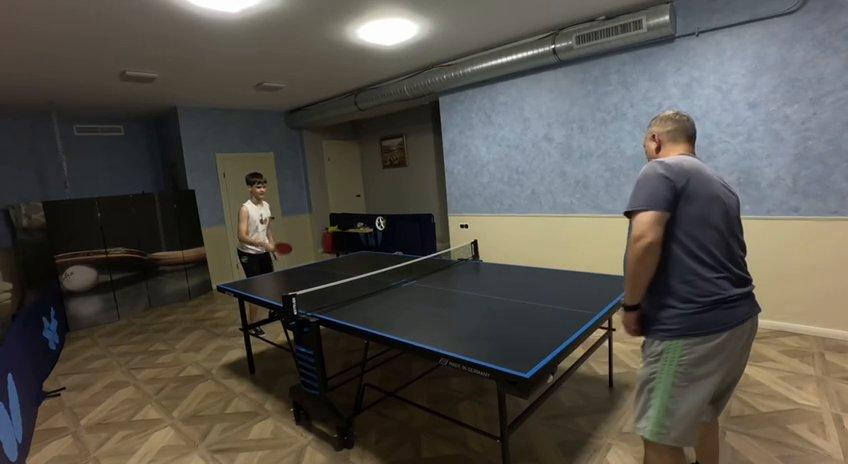Net: (283, 241, 481, 316)
Player1: (237, 172, 276, 276)
Player2: (622, 111, 760, 463)
Table: (219, 249, 628, 375)
